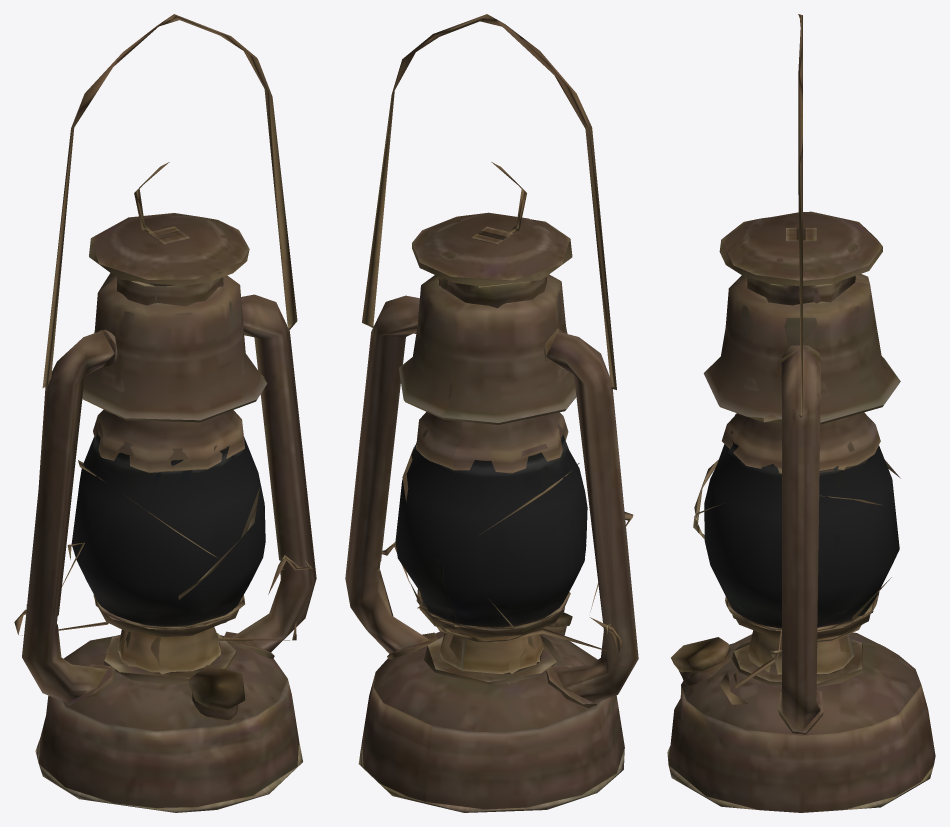
The model's file is lanterna.glb.
The picture shows the model from 3 angles, left to right: view 1: azimuth 30°, elevation 25°; view 2: azimuth 150°, elevation 25°; view 3: azimuth 270°, elevation 25°; orthographic projection.
Visible parts, largest first — view 1: Lantern_01, Lantern_01_glass; view 2: Lantern_01, Lantern_01_glass; view 3: Lantern_01, Lantern_01_glass.
Boxes of the visible parts, box(x1,y1,x2,y2) form: Lantern_01: box(14, 14, 316, 812); Lantern_01_glass: box(71, 431, 265, 626); Lantern_01: box(345, 14, 638, 812); Lantern_01_glass: box(395, 433, 587, 627); Lantern_01: box(667, 14, 935, 812); Lantern_01_glass: box(704, 440, 899, 628).
Bounding box in the file's own units: 0.1219 × 0.2939 × 0.0954.
Materials: 2 (2 with a texture image).
